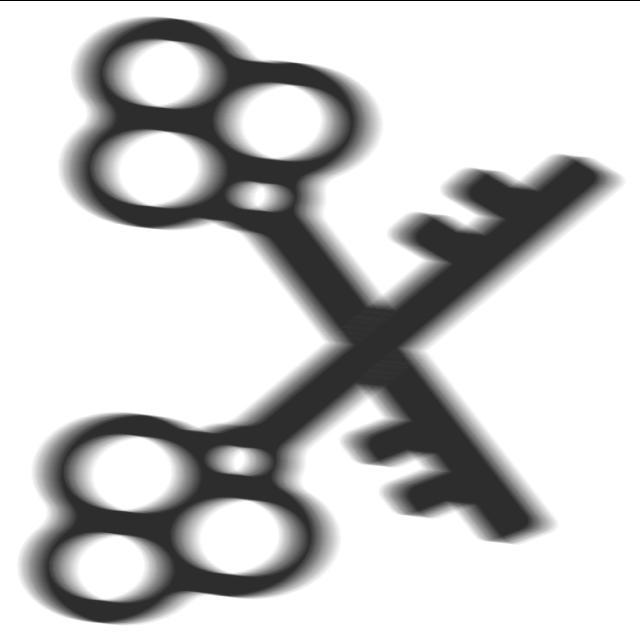key: (17, 104, 640, 629), (45, 4, 592, 590)
